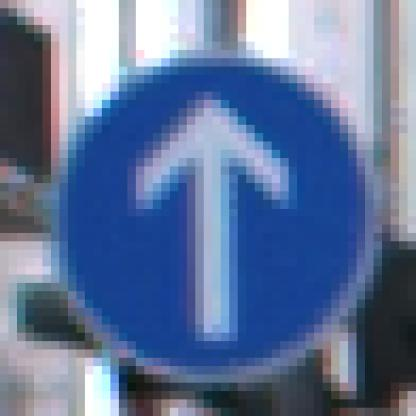AheadOnly: (44, 51, 375, 375)
